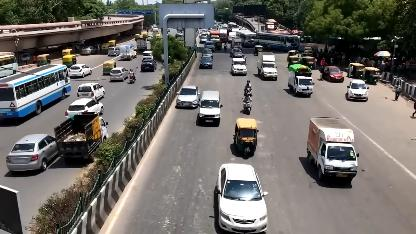auto-rikshaw: (229, 113, 261, 161), (362, 67, 380, 83), (348, 62, 365, 77), (300, 56, 316, 68), (288, 55, 300, 67), (287, 49, 299, 61), (254, 45, 264, 55)
bike: (241, 98, 253, 114), (244, 86, 252, 96)
bus: (256, 31, 298, 51), (236, 29, 256, 47)
car: (212, 158, 272, 234), (197, 89, 223, 127), (174, 83, 202, 109), (346, 79, 370, 101), (231, 57, 249, 77), (324, 65, 345, 82), (199, 54, 213, 70)
truck: (306, 118, 362, 186), (288, 66, 316, 98), (259, 53, 279, 80)
